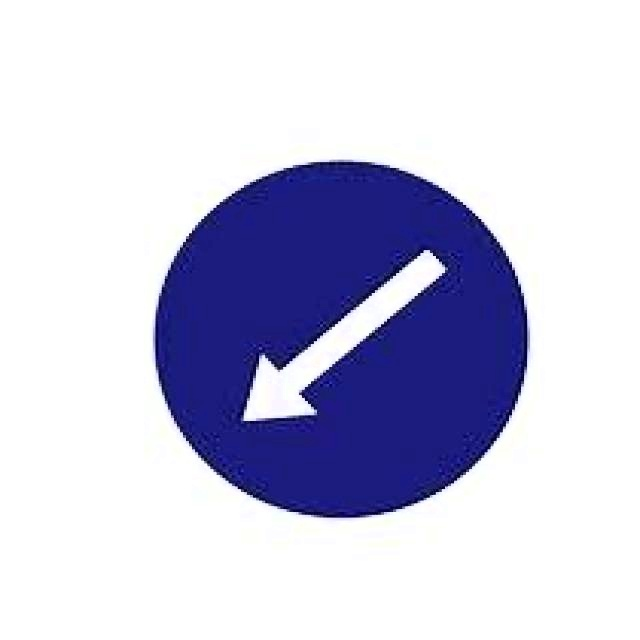R.301e: (150, 157, 537, 521)
